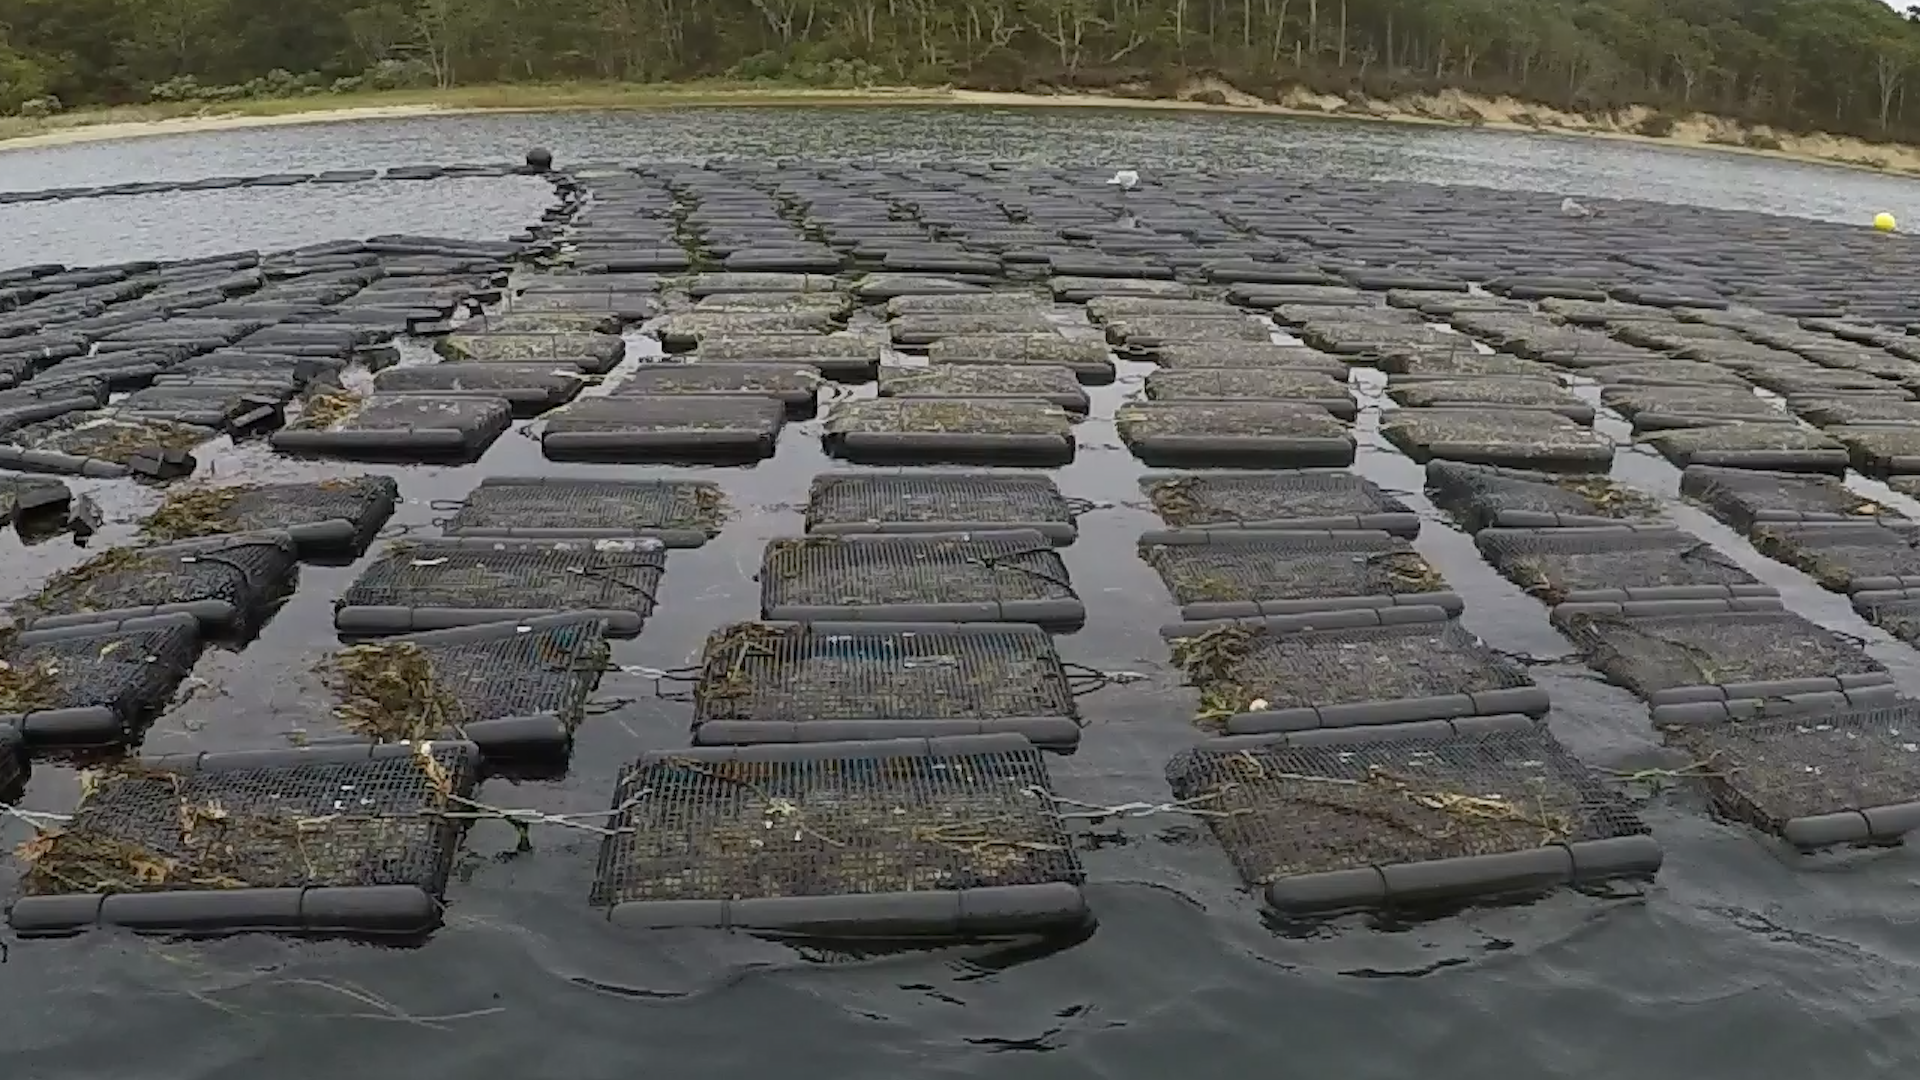bag: (1171, 709, 1659, 934), (3, 738, 487, 940), (603, 735, 1083, 935), (247, 609, 605, 762), (687, 620, 1058, 746)
